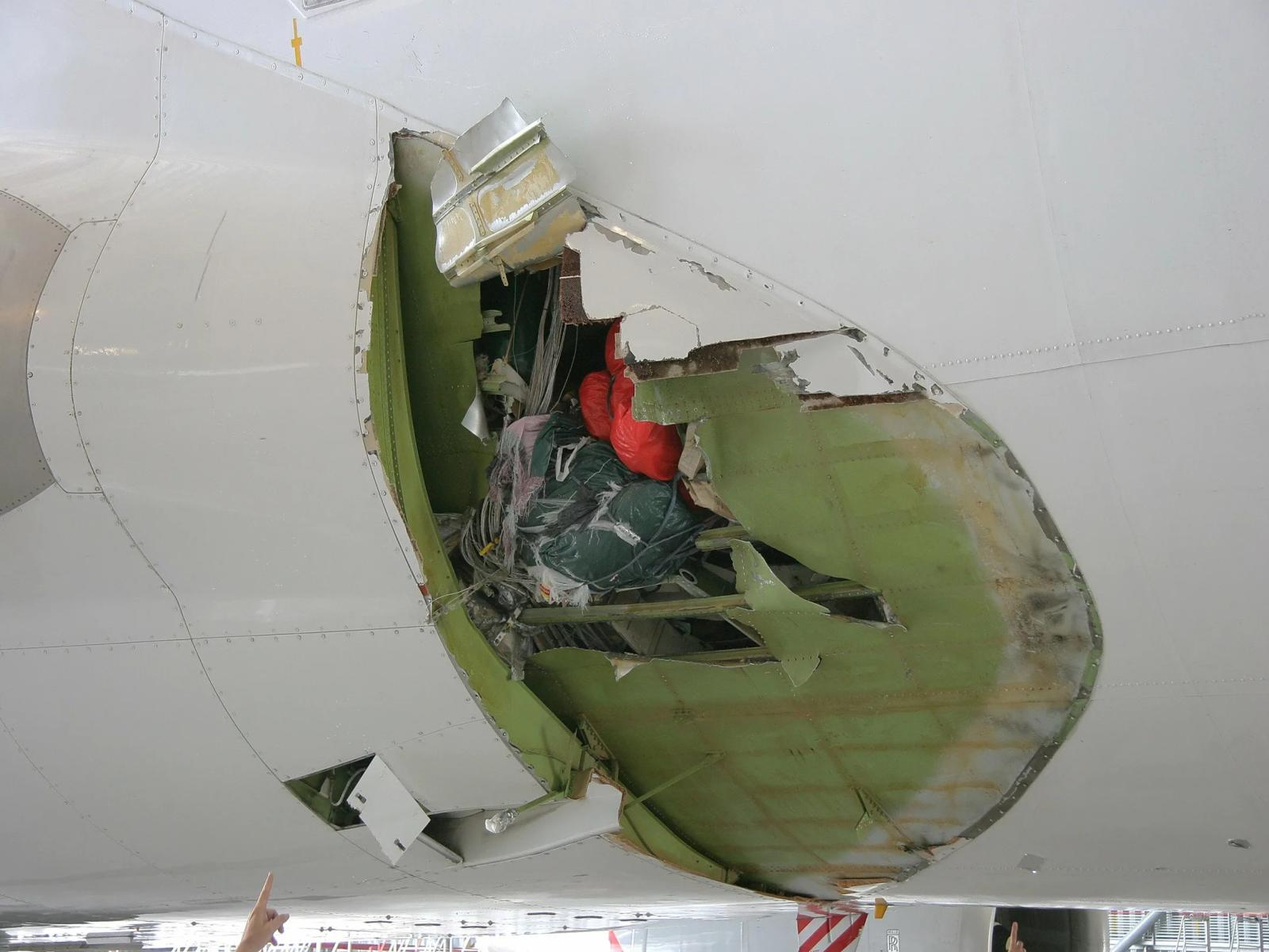Fuselage_damage: (349, 91, 1111, 914)
